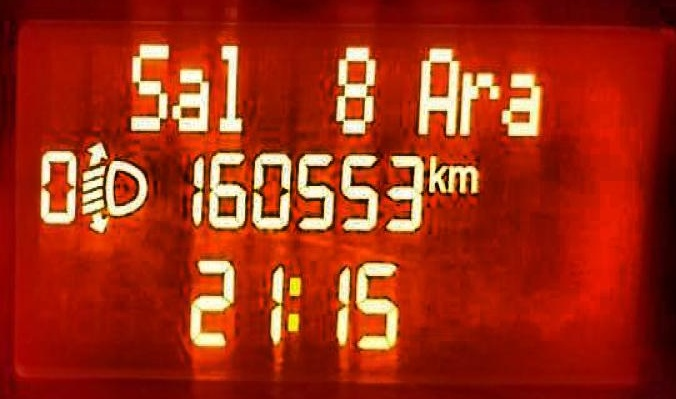0: (247, 142, 292, 234), (32, 142, 79, 226)
1: (326, 259, 352, 350), (264, 257, 284, 351), (183, 149, 201, 227)
2: (184, 250, 237, 354)
3: (383, 150, 422, 234)
5: (353, 252, 401, 354), (336, 149, 382, 234), (295, 149, 334, 234)
6: (205, 145, 246, 234)
8: (330, 39, 375, 137)
X: (126, 34, 168, 139), (415, 37, 456, 139), (502, 66, 546, 141), (459, 64, 500, 139), (217, 34, 246, 137), (172, 62, 211, 136), (284, 265, 304, 339), (443, 161, 481, 196), (425, 149, 444, 195)
